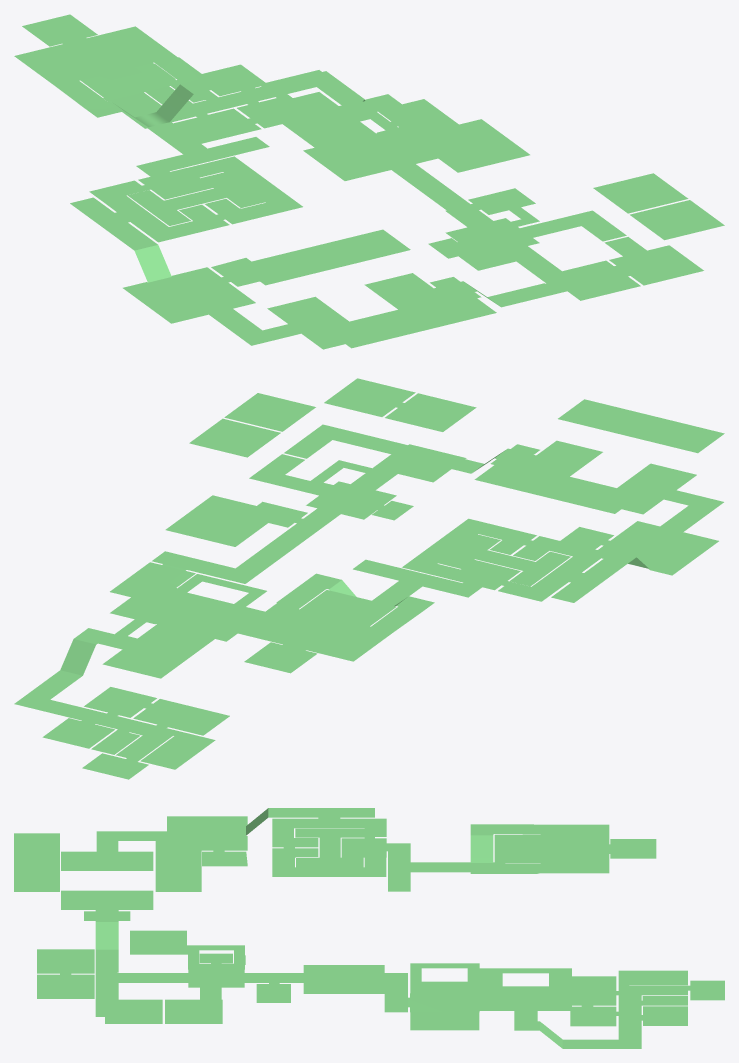
File: unity_map_5_NAV.fbx
3 views of the same model, one above another, from view 1: azimuth 30°, elevation 25°; view 2: azimuth 150°, elevation 25°; view 3: azimuth 270°, elevation 25° (orthographic). The views are drawn at different scales.
Parts seen in each view (by area): view 1: Nav_mesh; view 2: Nav_mesh; view 3: Nav_mesh.
Part boxes in pixels (box(x1,y1,x2,y2)): Nav_mesh: box(14, 14, 724, 349); Nav_mesh: box(14, 378, 724, 779); Nav_mesh: box(14, 808, 724, 1048).
Bounding box in the file's own units: 63628 × 13012 × 92142.
